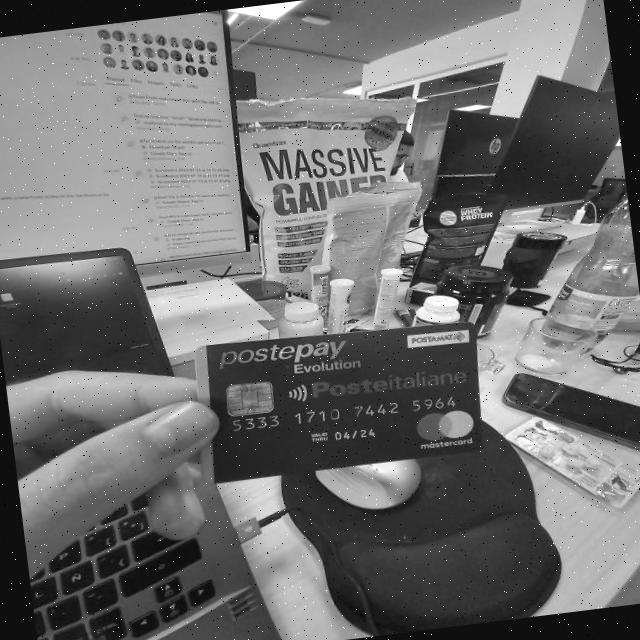card: (195, 314, 484, 478)
